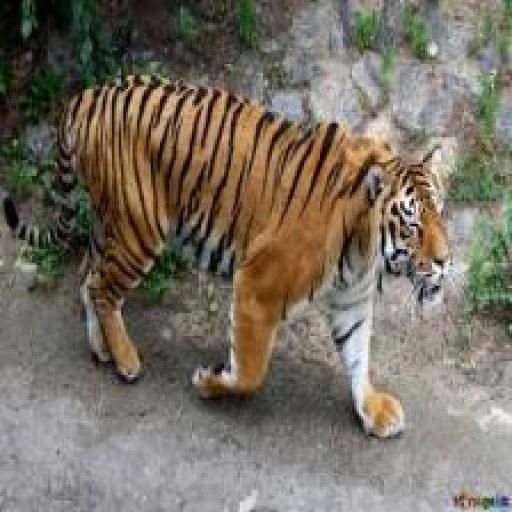Tiger: (2, 69, 462, 449)
